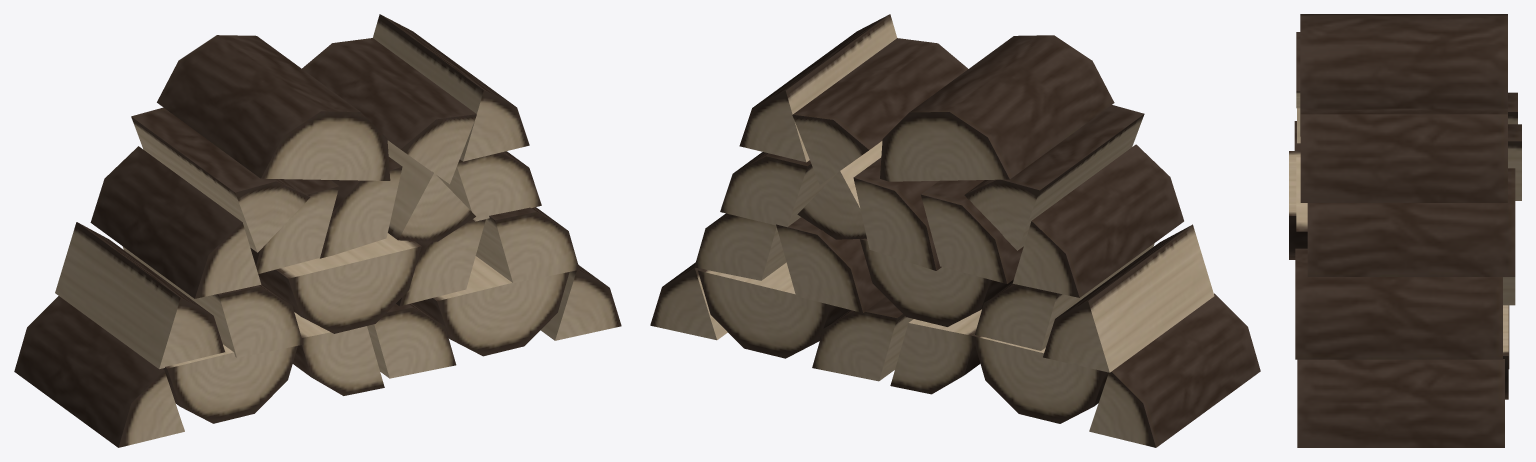
The model's file is FirewoodPile02_Geo.fbx.
The picture shows the model from 3 angles, left to right: view 1: azimuth 30°, elevation 25°; view 2: azimuth 150°, elevation 25°; view 3: azimuth 270°, elevation 25°; orthographic projection.
Visible parts, largest first — view 1: FirewoodPile02_Geo; view 2: FirewoodPile02_Geo; view 3: FirewoodPile02_Geo.
Part boxes in pixels (bbox=[...]): FirewoodPile02_Geo: bbox=[14, 14, 621, 447]; FirewoodPile02_Geo: bbox=[650, 14, 1260, 447]; FirewoodPile02_Geo: bbox=[1289, 14, 1521, 447].
Size of the model in its own units: 113 by 62.01 by 45.35.
